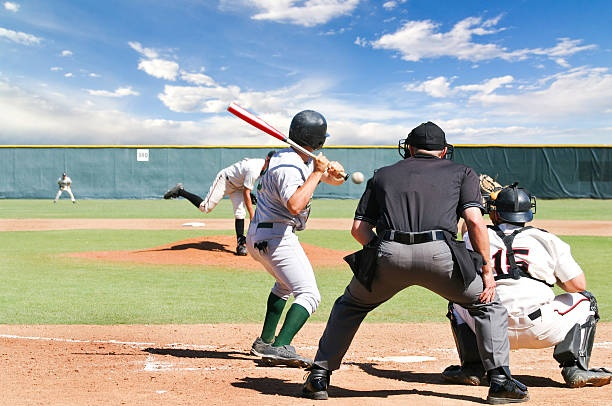bita: (225, 101, 348, 180)
